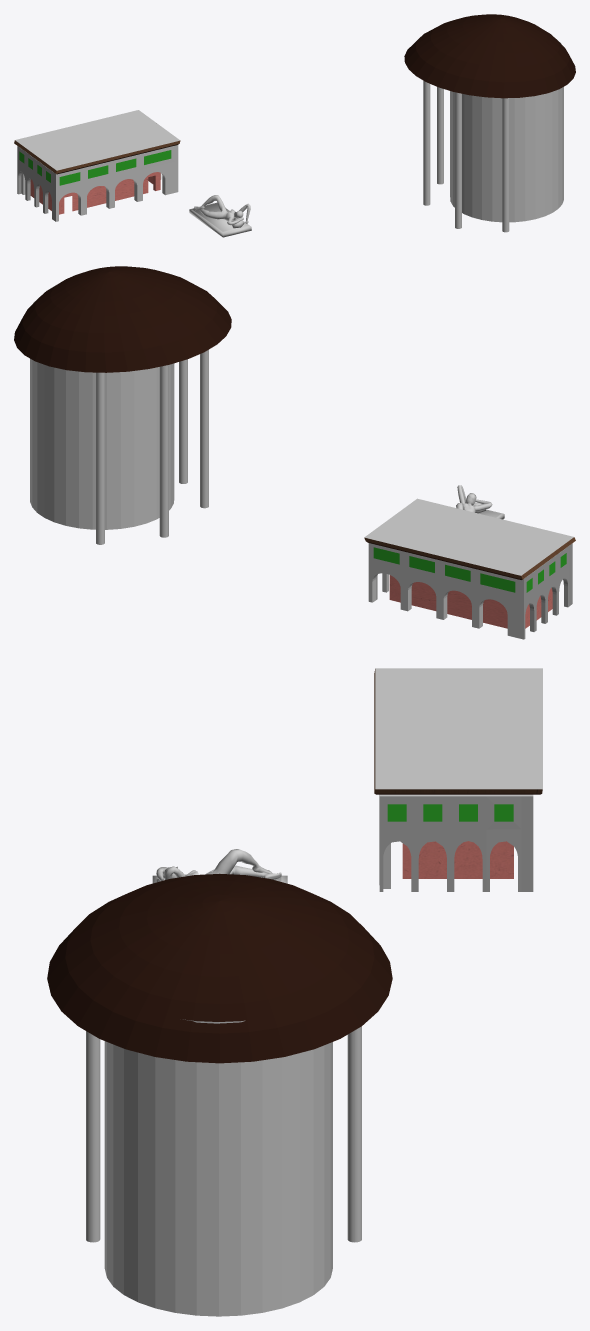
Rendered from KiricoMapBB.obj.
The picture shows the model from 3 angles, top to bottom: view 1: azimuth 30°, elevation 25°; view 2: azimuth 150°, elevation 25°; view 3: azimuth 270°, elevation 25°; orthographic projection. The views are drawn at different scales.
Parts seen in each view (by area): view 1: ConstructionBase.007_Cylinder, BuildingRoof.007_Cube.003, Arco.007_Cube.006, statue.new_Cube.013, BuildingExt.001_Cube.019; view 2: ConstructionBase.007_Cylinder, BuildingRoof.007_Cube.003, Arco.007_Cube.006, BuildingExt.001_Cube.019, statue.new_Cube.013; view 3: ConstructionBase.007_Cylinder, BuildingRoof.007_Cube.003, Arco.007_Cube.006, BuildingExt.001_Cube.019, statue.new_Cube.013.
Boxes of the visible parts, x1,y1,x2,y2 form: ConstructionBase.007_Cylinder: [404, 14, 575, 232]; BuildingRoof.007_Cube.003: [14, 110, 180, 174]; Arco.007_Cube.006: [17, 145, 178, 221]; statue.new_Cube.013: [189, 195, 251, 237]; BuildingExt.001_Cube.019: [30, 172, 160, 214]; ConstructionBase.007_Cylinder: [14, 266, 231, 544]; BuildingRoof.007_Cube.003: [364, 498, 575, 579]; Arco.007_Cube.006: [368, 543, 572, 639]; BuildingExt.001_Cube.019: [389, 575, 552, 628]; statue.new_Cube.013: [456, 485, 504, 519]; ConstructionBase.007_Cylinder: [47, 873, 392, 1316]; BuildingRoof.007_Cube.003: [374, 668, 542, 794]; Arco.007_Cube.006: [379, 794, 533, 891]; BuildingExt.001_Cube.019: [402, 841, 513, 878]; statue.new_Cube.013: [152, 849, 287, 883].
Size of the model in its own units: 61.4 by 22.77 by 28.05.
